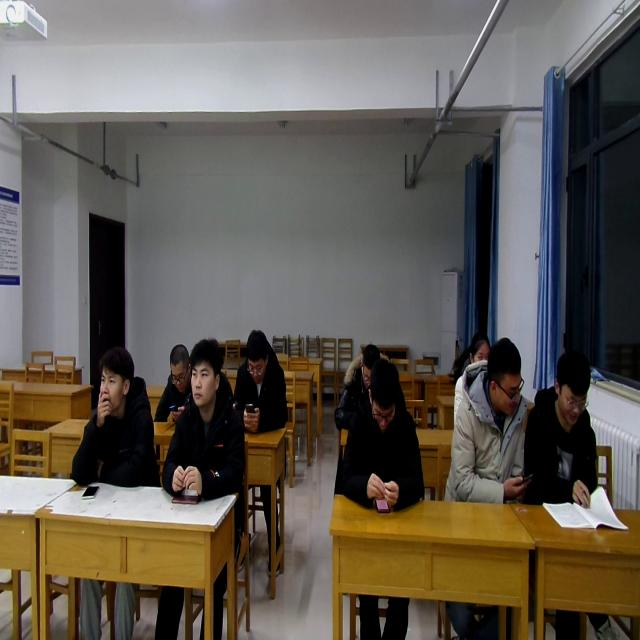bow: (232, 323, 288, 435), (332, 334, 380, 428)
down: (552, 346, 592, 426), (364, 356, 402, 436), (243, 323, 272, 388), (167, 336, 190, 396), (356, 338, 380, 389)
lookup: (95, 342, 134, 418), (188, 332, 225, 412), (464, 327, 492, 369)
sit: (442, 337, 528, 506), (159, 338, 247, 502), (336, 356, 426, 514), (70, 344, 158, 490), (524, 344, 600, 508), (450, 332, 492, 426), (154, 338, 194, 426)
